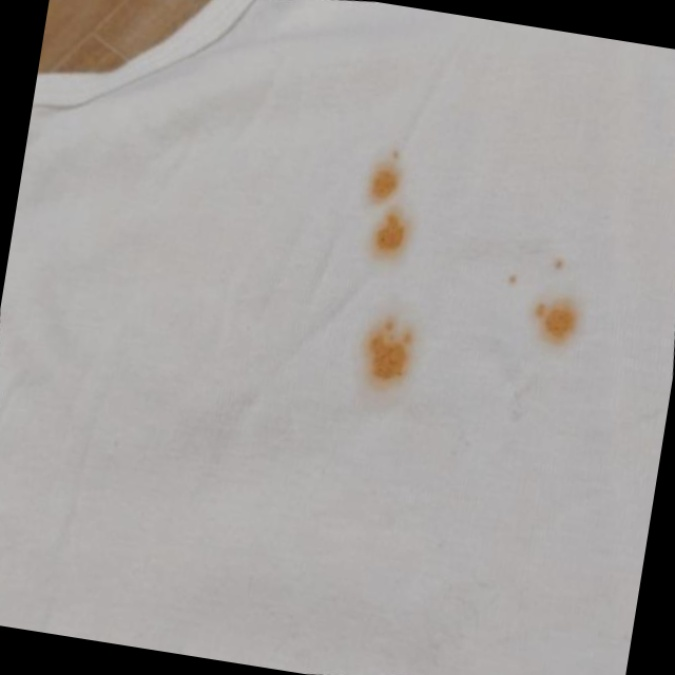kimchi: (514, 283, 593, 363), (353, 310, 422, 401), (355, 137, 408, 203), (364, 202, 416, 267), (545, 247, 579, 276), (490, 266, 521, 293)
